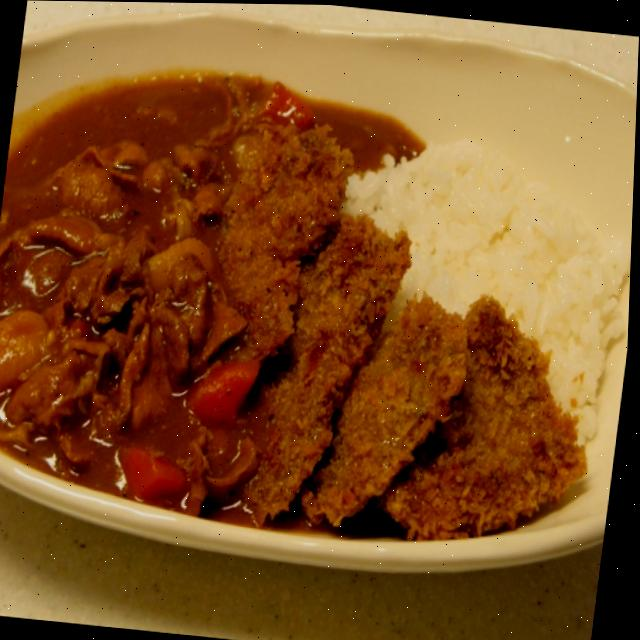牛肉菜式: (0, 0, 640, 610)
